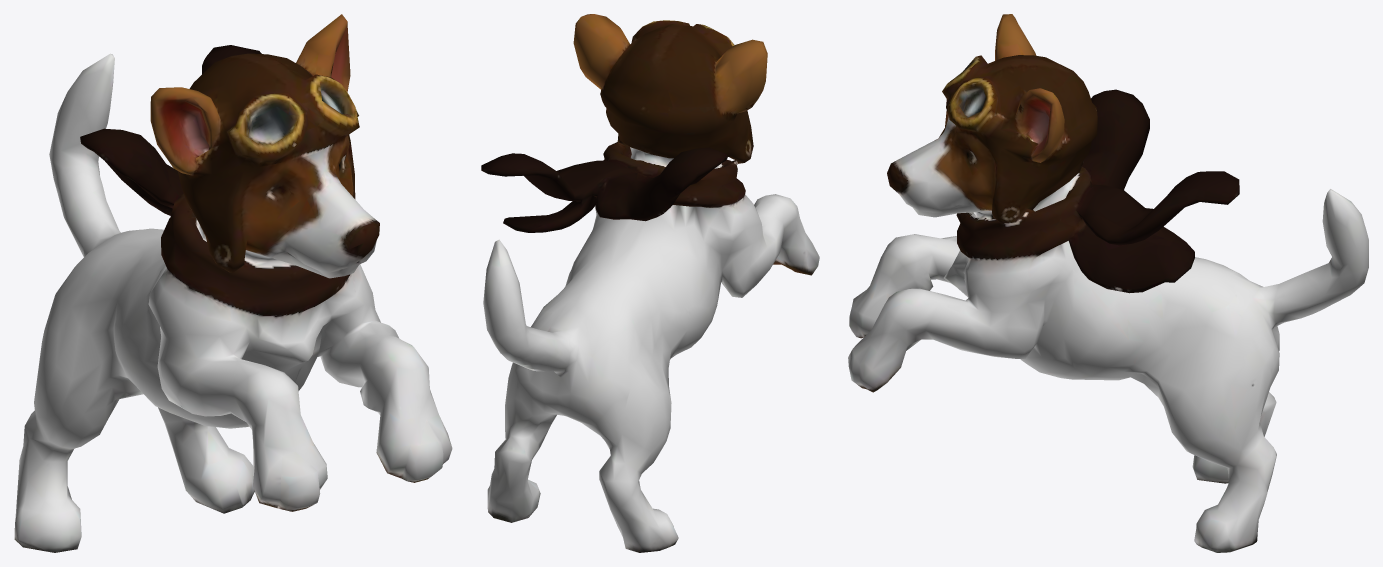
The model's file is detail_11_lo2.glb.
3 views of the same model, side by side, from view 1: azimuth 30°, elevation 25°; view 2: azimuth 150°, elevation 25°; view 3: azimuth 270°, elevation 25° (orthographic). The views are drawn at different scales.
Parts seen in each view (by area): view 1: Mesh_0.001; view 2: Mesh_0.001; view 3: Mesh_0.001.
Part boxes in pixels (x1=…): Mesh_0.001: x1=14, y1=14, x2=452, y2=552; Mesh_0.001: x1=481, y1=14, x2=819, y2=552; Mesh_0.001: x1=848, y1=14, x2=1368, y2=552.
Size of the model in its own units: 0.4611 by 0.9812 by 1.01.
Materials: 1 (1 with a texture image).
